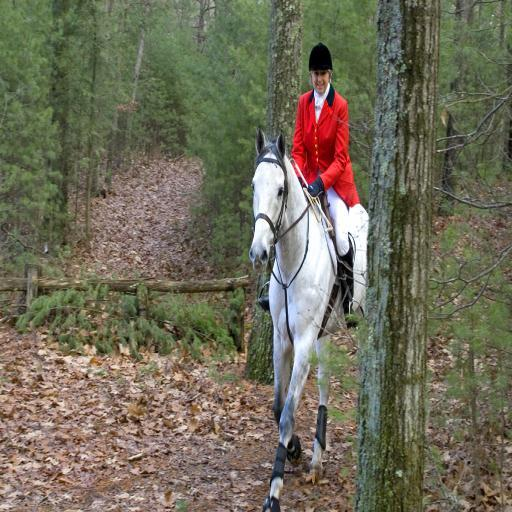Horse: (246, 126, 370, 512)
